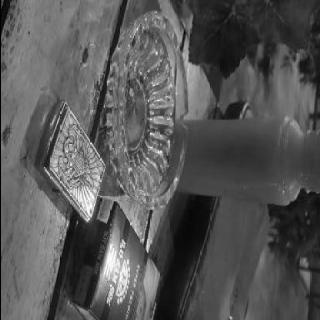objects: (72, 198, 160, 318)
